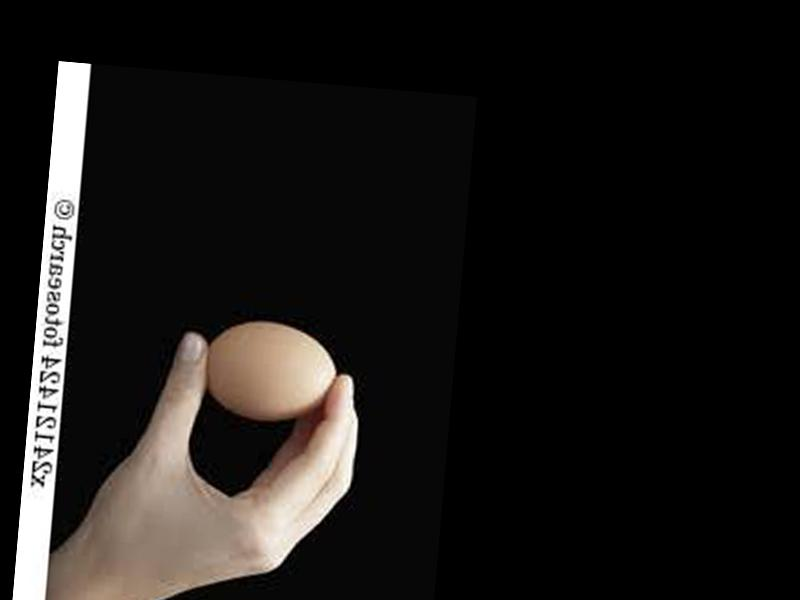Eggs: (201, 317, 343, 426)
